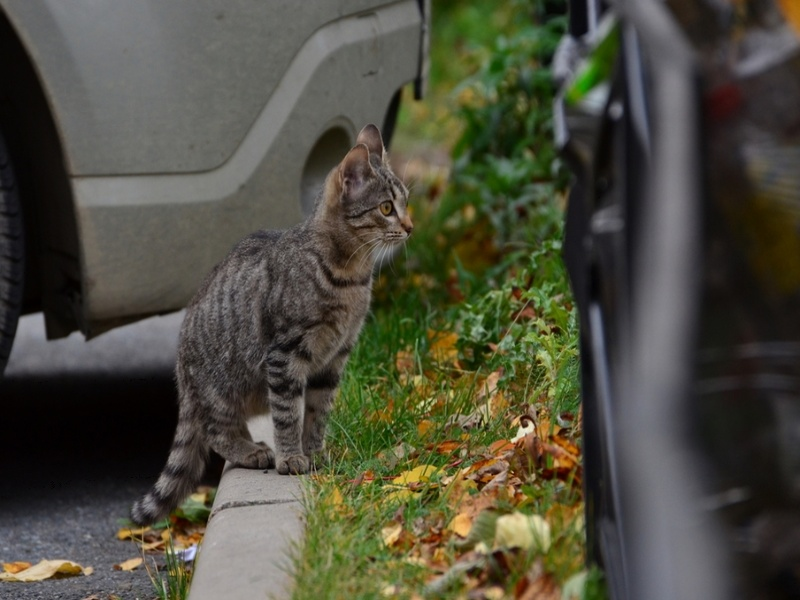cat: (126, 122, 420, 530)
